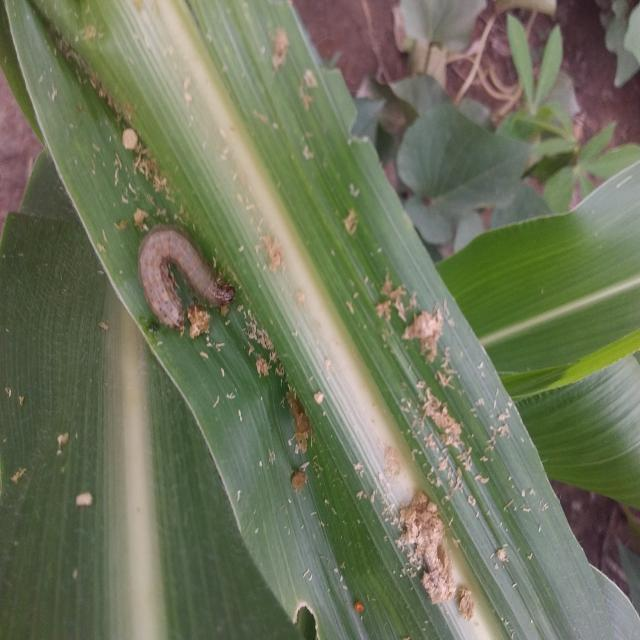yellow-stem-borer-larva: (123, 208, 253, 340)
